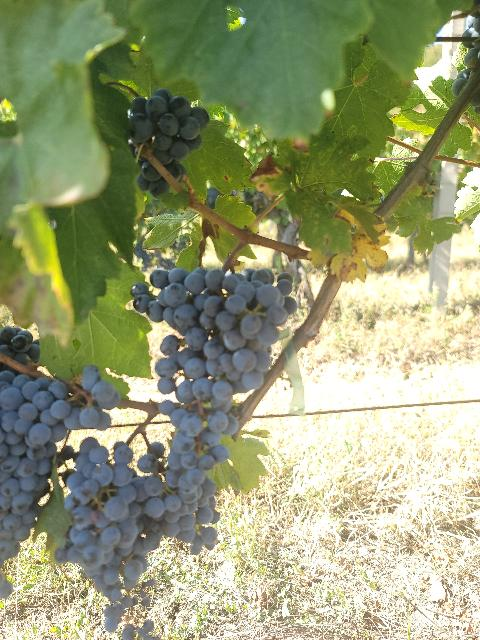grapes: (131, 268, 298, 470), (0, 361, 120, 561), (55, 438, 165, 631), (162, 431, 220, 554)
